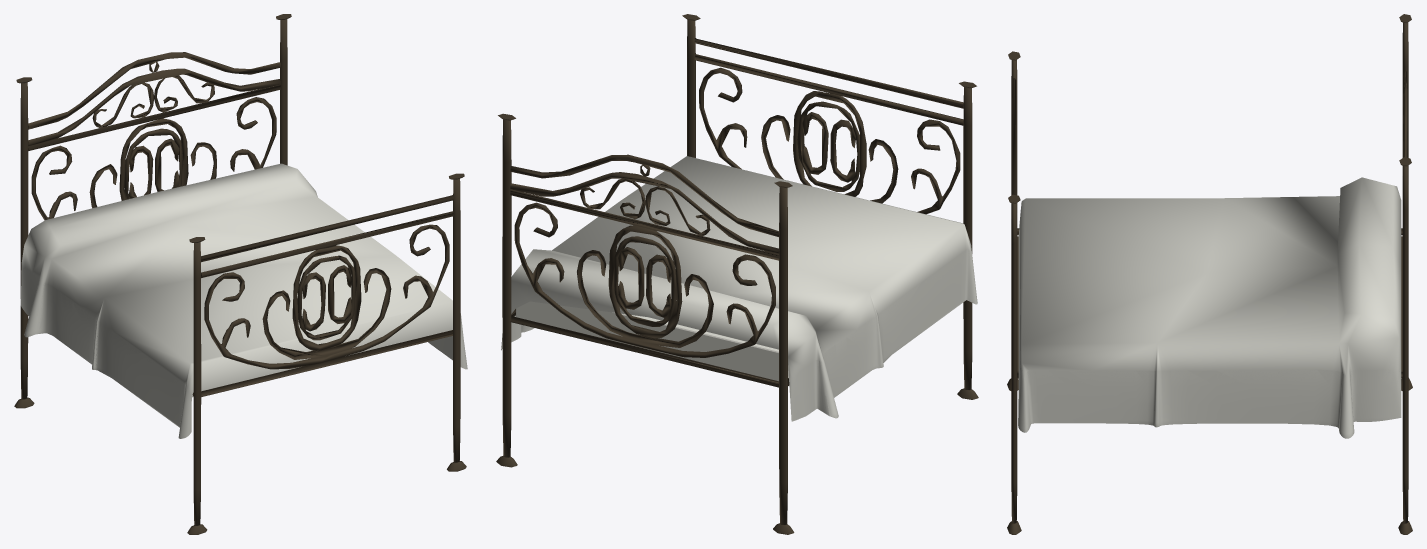
File: sh-scopia-iron-bed.glb
The picture shows the model from 3 angles, left to right: view 1: azimuth 30°, elevation 25°; view 2: azimuth 150°, elevation 25°; view 3: azimuth 270°, elevation 25°; orthographic projection. The views are drawn at different scales.
Visible parts, largest first — view 1: Colcha_Plane.003, bed_Cylinder.001; view 2: Colcha_Plane.003, bed_Cylinder.001, mattress_Cube; view 3: Colcha_Plane.003, bed_Cylinder.001.
Part boxes in pixels (bbox=[...]): Colcha_Plane.003: bbox=[20, 163, 467, 438]; bed_Cylinder.001: bbox=[14, 14, 466, 534]; Colcha_Plane.003: bbox=[501, 156, 977, 421]; bed_Cylinder.001: bbox=[496, 14, 978, 534]; mattress_Cube: bbox=[516, 301, 788, 381]; Colcha_Plane.003: bbox=[1018, 177, 1401, 438]; bed_Cylinder.001: bbox=[1007, 14, 1412, 534].
Bounding box in the file's own units: 1 × 1 × 0.9979.
